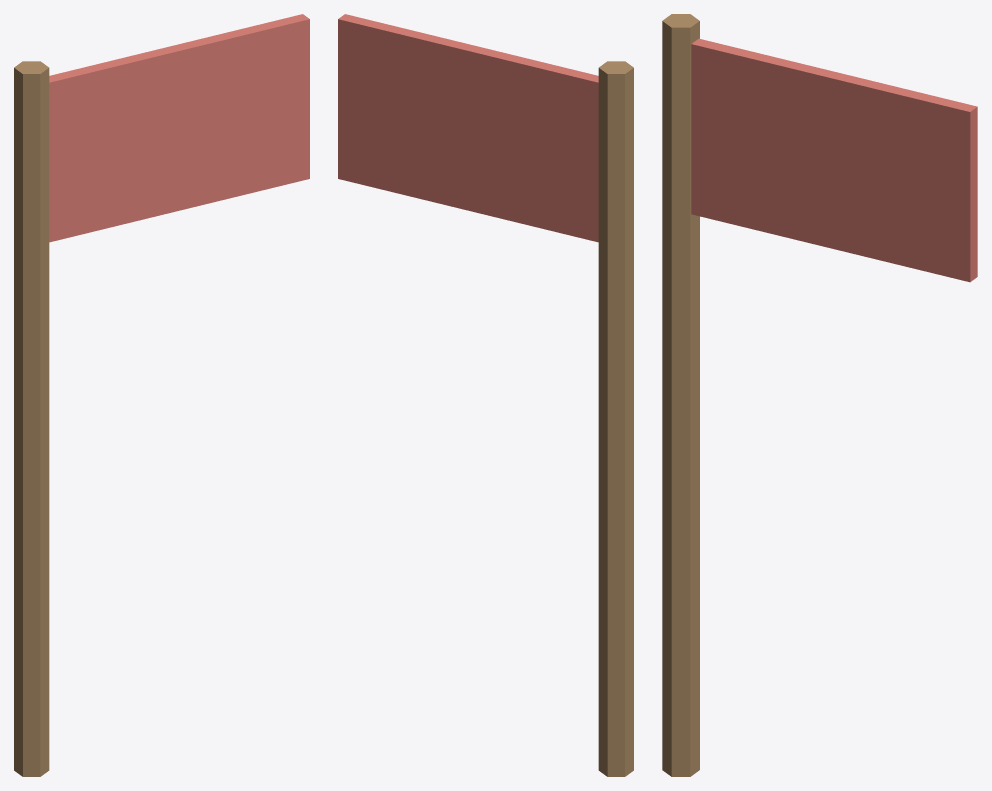
The model's file is flag.glb.
3 renders of one model, left to right at view 1: azimuth 30°, elevation 25°; view 2: azimuth 150°, elevation 25°; view 3: azimuth 330°, elevation 25°, orthographic. The views are drawn at different scales.
Parts seen in each view (by area): view 1: flag; view 2: flag; view 3: flag.
Part boxes in pixels (x1,y1,x2,y2): flag: [14, 14, 309, 776]; flag: [338, 14, 633, 776]; flag: [662, 14, 977, 776].
Bounding box in the file's own units: 0.9433 × 2.2 × 0.1.
